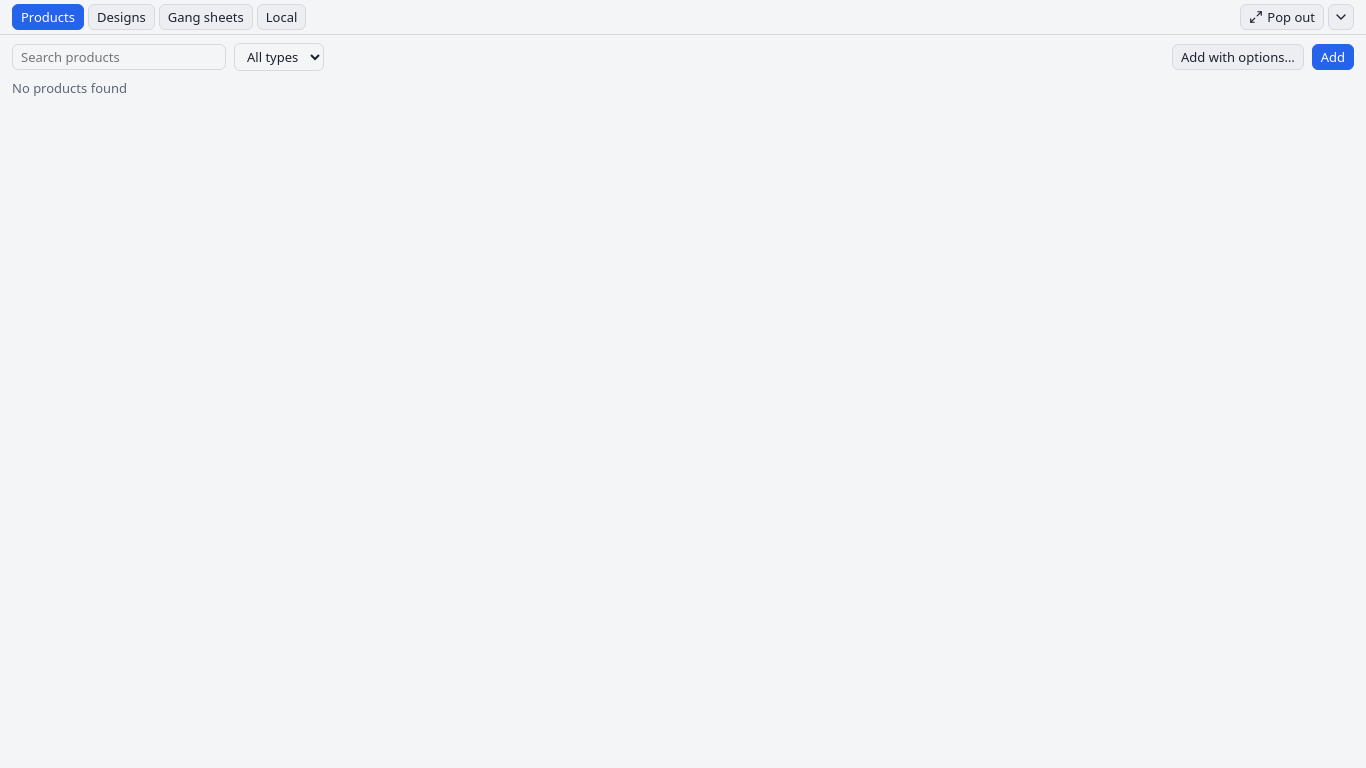
Scenario: LibraryBrowser › orders: "Last 7 days" sends date_from 7 days ago, Status maps to one request per status, newest first
This screenshot has width=1366, height=768.
Step 1. Click the button "Pop out" → (1282, 17), box [1240, 4, 1324, 30]
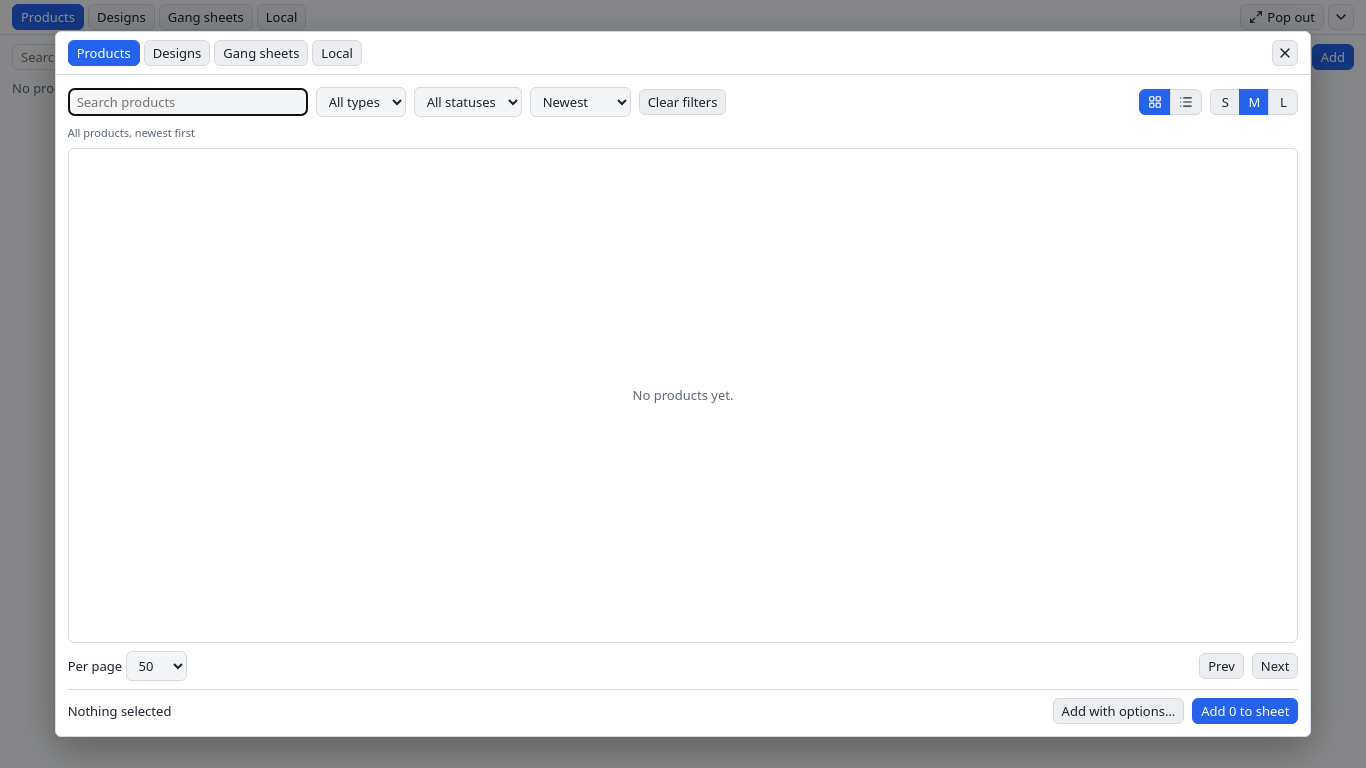
Step 2. Click the tab "Gang sheets" → (261, 53), box [214, 40, 308, 66]
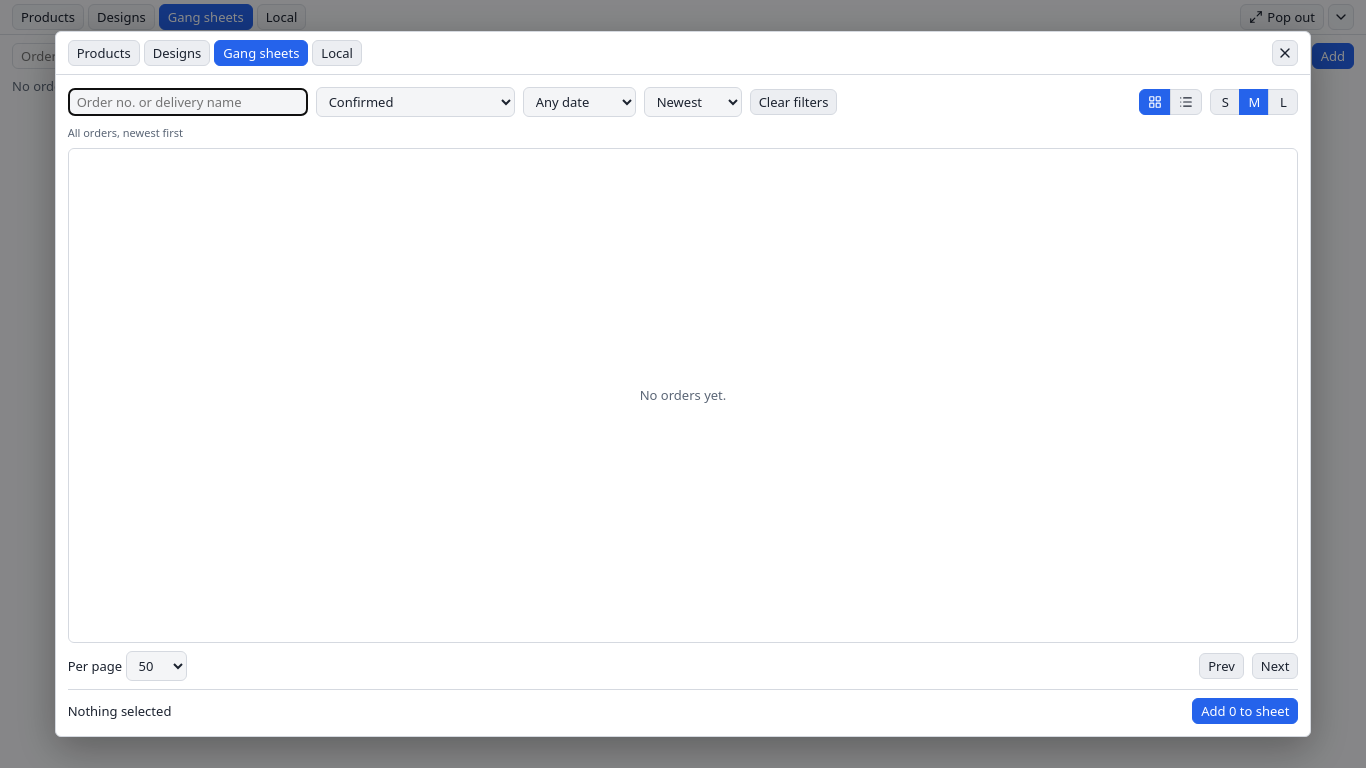
Step 3. Select "Last 7 days" in the dropdown named "Date" → (579, 102), box [523, 87, 636, 117]
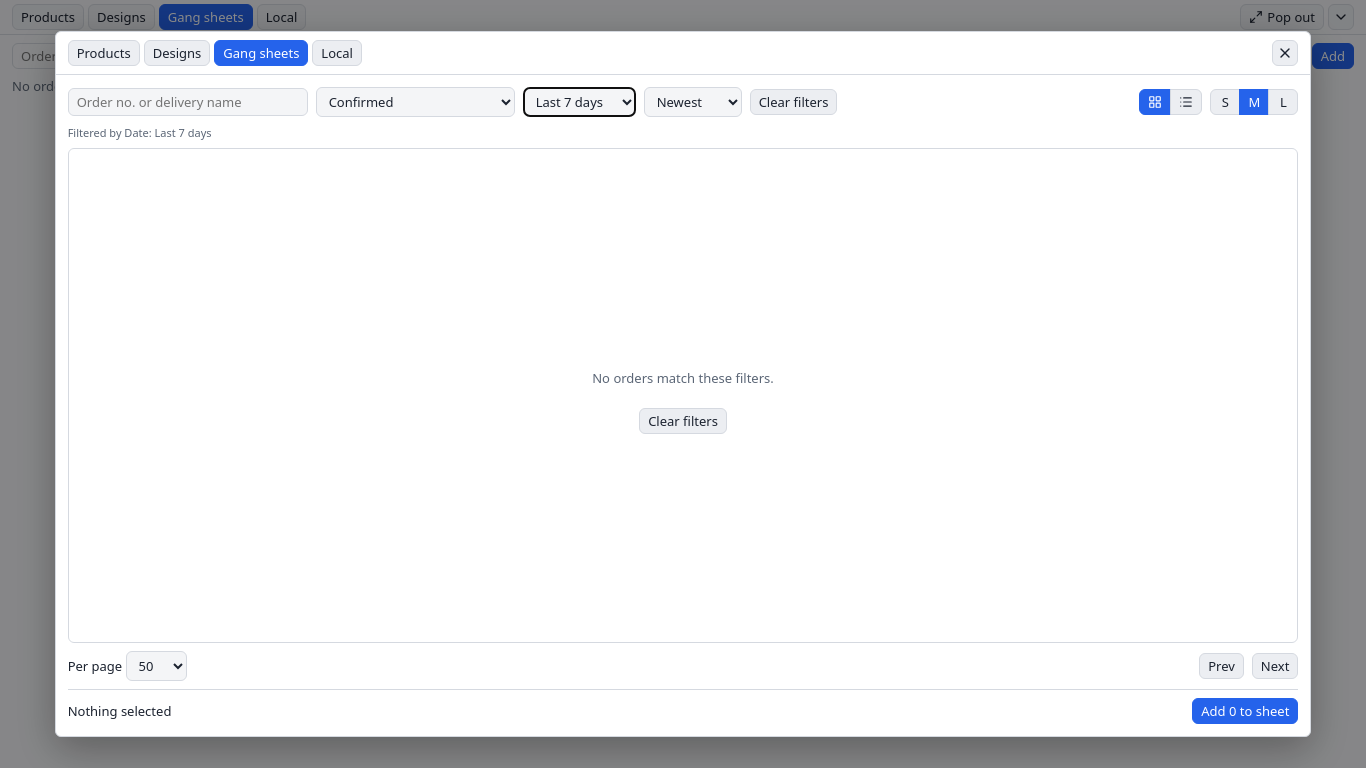
Step 4. Select "Confirmed + in production" in the dropdown named "Status" → (415, 102), box [316, 87, 515, 117]
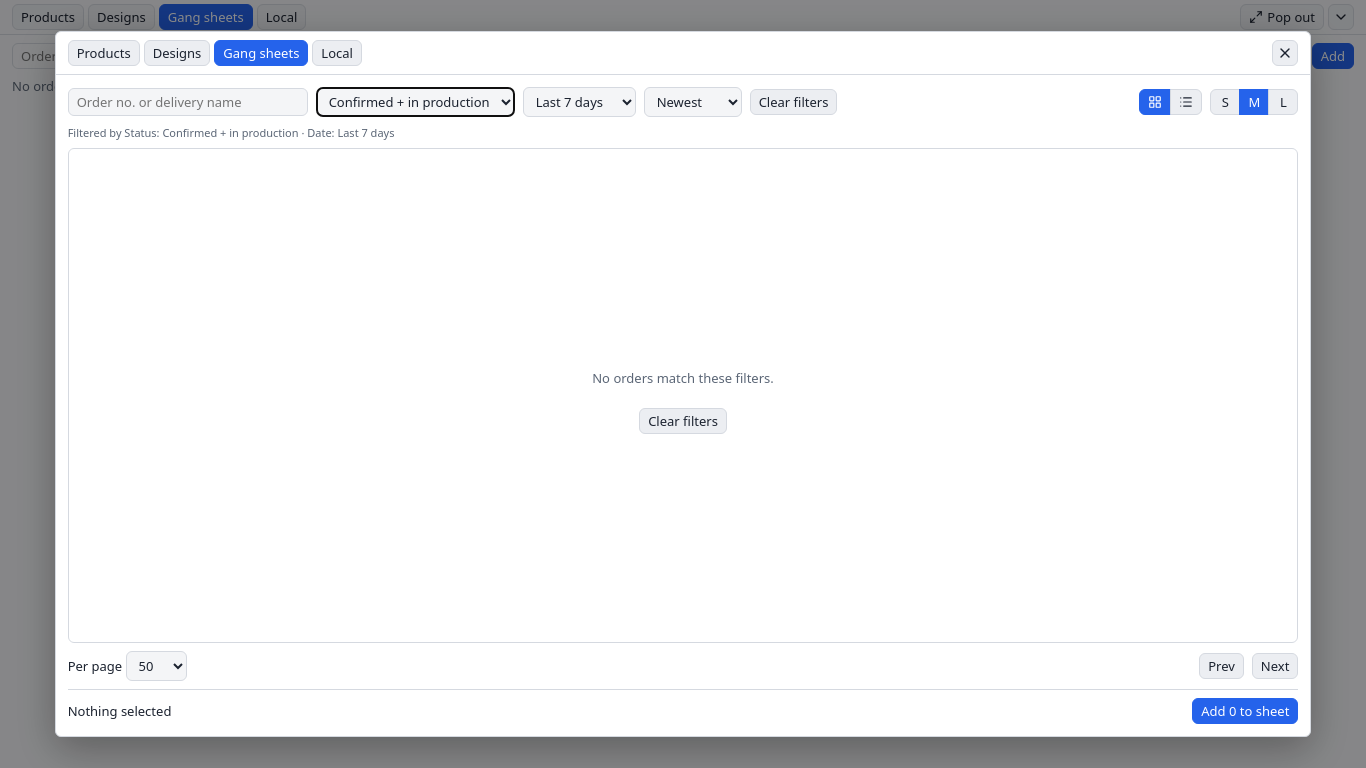
Result: the text "Filtered by Status: Confirmed + in production · Date: Last 7 days" is shown at [68, 125, 394, 140]
